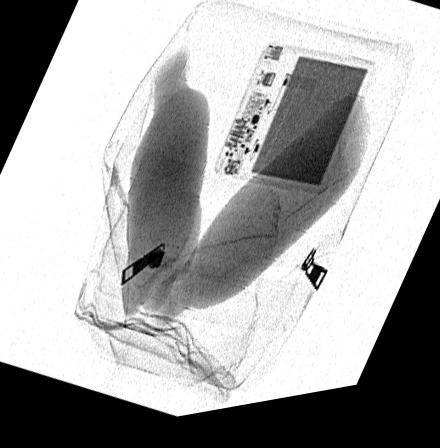Powerbank: (215, 52, 379, 205)
